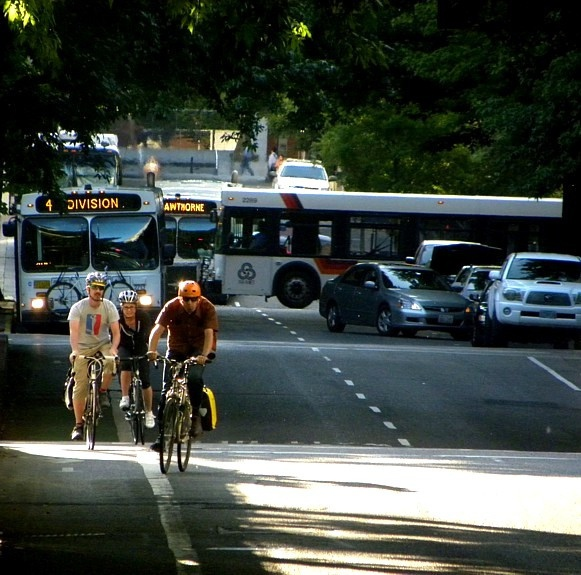non-vehicle: (152, 355, 199, 475), (45, 264, 132, 317), (78, 354, 118, 450), (122, 353, 148, 444)
